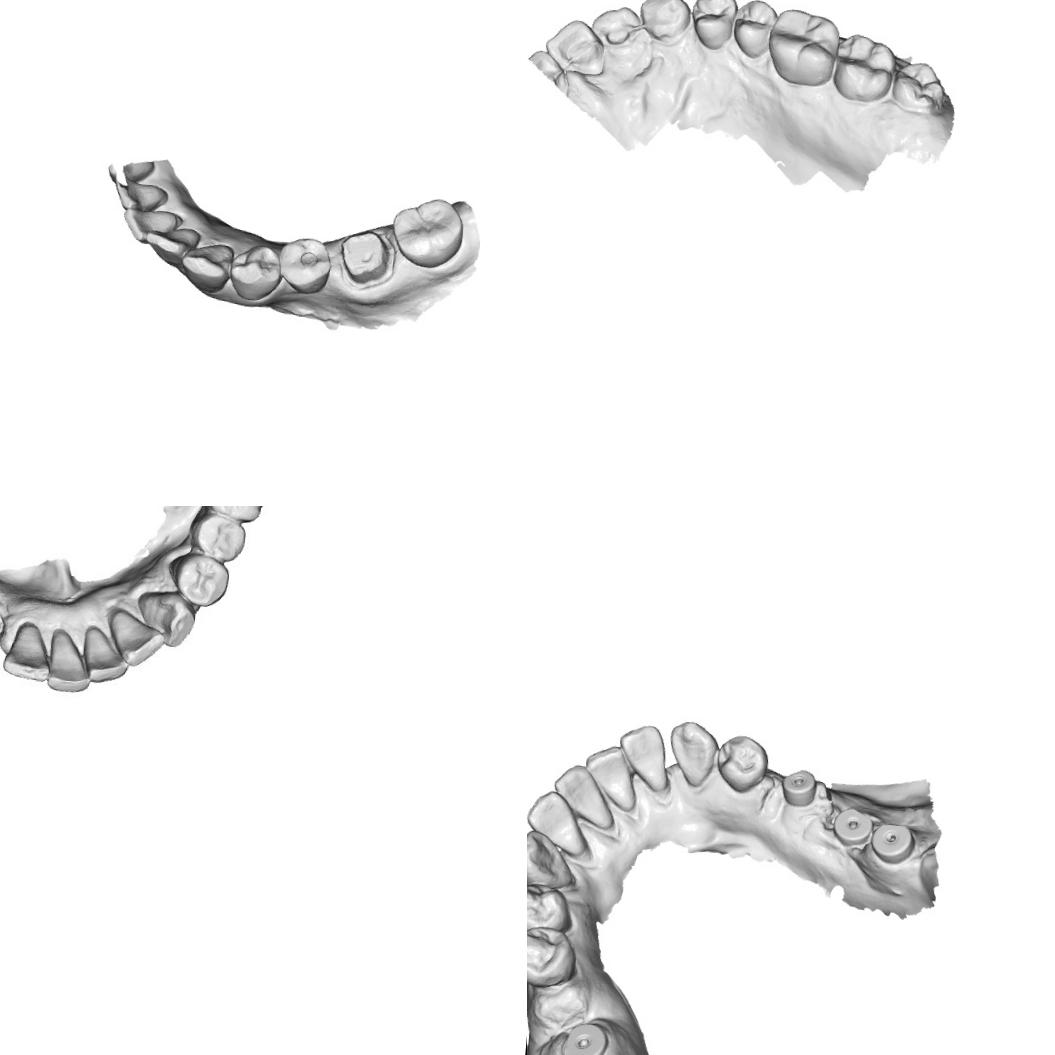canine: (130, 584, 196, 651), (662, 718, 720, 789), (527, 826, 578, 891), (178, 240, 234, 294), (638, 0, 697, 44)
crown: (335, 226, 393, 288)
implant: (868, 820, 916, 866), (829, 806, 874, 850), (559, 1018, 610, 1055), (778, 765, 819, 809)
incisor: (548, 760, 620, 831), (614, 721, 674, 792), (540, 14, 606, 78), (580, 742, 640, 812), (1, 618, 56, 684), (527, 787, 581, 845), (587, 0, 646, 52), (107, 608, 159, 664), (47, 626, 90, 688), (142, 224, 202, 268), (81, 626, 128, 679), (120, 205, 178, 245), (111, 176, 168, 213), (104, 156, 155, 188)
molar: (763, 5, 843, 90), (387, 192, 466, 271), (829, 30, 898, 106), (888, 56, 949, 117)
premolar: (274, 233, 334, 296), (712, 731, 771, 795), (527, 922, 579, 990), (226, 241, 283, 303), (729, 0, 780, 60), (527, 880, 577, 937), (687, 0, 740, 52), (174, 556, 226, 604), (196, 513, 246, 560), (195, 506, 271, 530)
